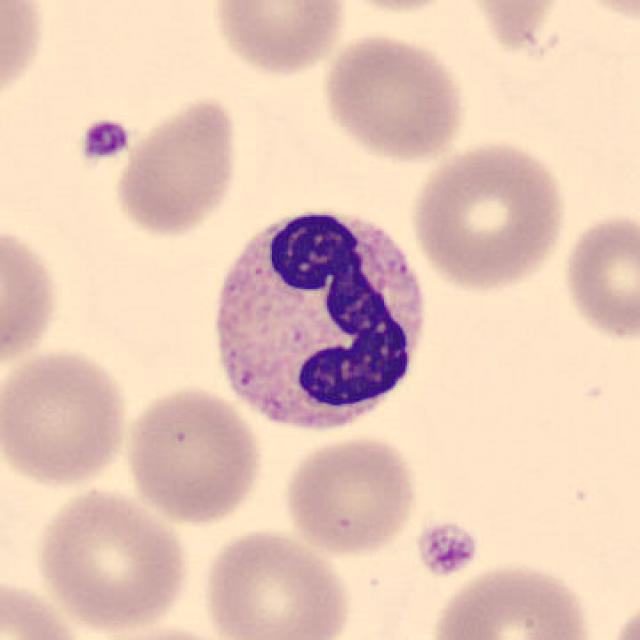Neutrophil: (201, 194, 439, 444)
Platelets: (412, 518, 482, 580), (75, 114, 133, 166)
RBC: (407, 136, 571, 294), (30, 483, 194, 633), (119, 383, 267, 527), (318, 30, 471, 164), (110, 90, 244, 241), (0, 342, 133, 492), (199, 525, 356, 640), (279, 432, 421, 557), (427, 557, 601, 640), (206, 0, 350, 79), (558, 208, 638, 346), (0, 217, 66, 377), (0, 575, 92, 640), (0, 0, 50, 116), (458, 0, 570, 48), (76, 622, 255, 640), (322, 0, 469, 16), (560, 0, 640, 26), (601, 589, 640, 640)
